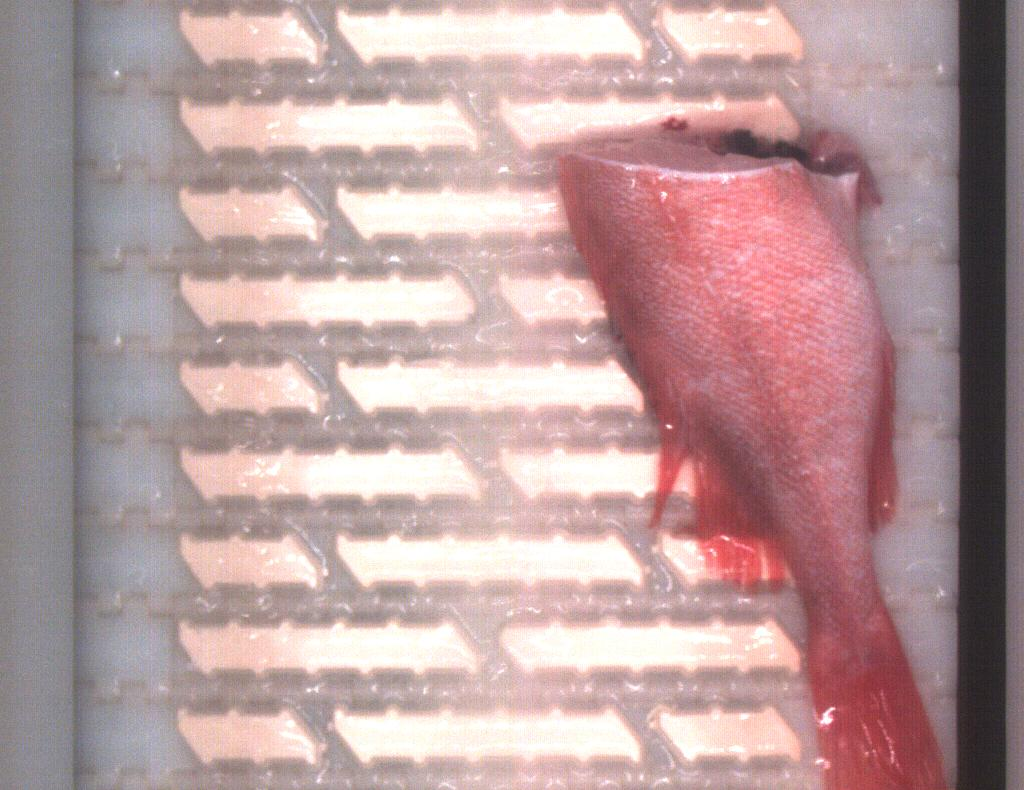Fish: (559, 131, 947, 790)
